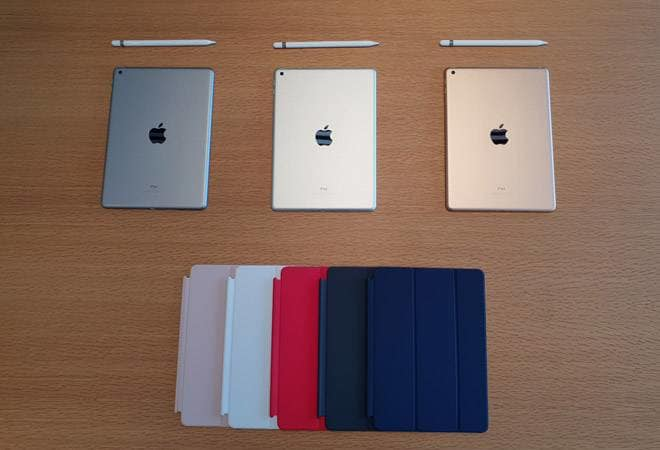apple: (481, 112, 517, 156), (144, 118, 177, 160), (310, 117, 342, 159)
